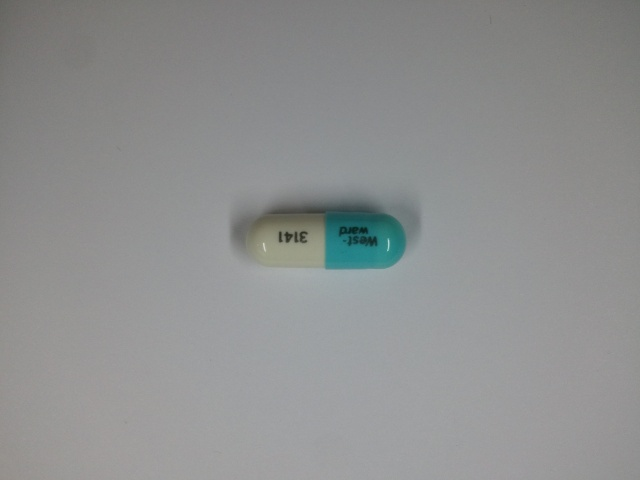capsule: (244, 204, 407, 271)
